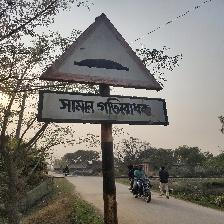Speed-breaker: (37, 12, 167, 126)
